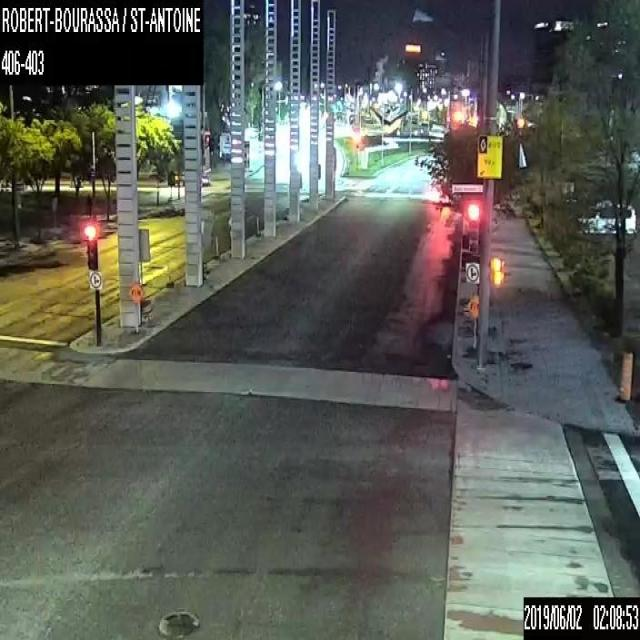construction: (138, 228, 152, 322), (129, 278, 144, 336), (466, 293, 479, 358), (618, 350, 632, 401), (202, 217, 212, 278)
vehicle: (579, 200, 636, 233), (166, 196, 184, 214)
